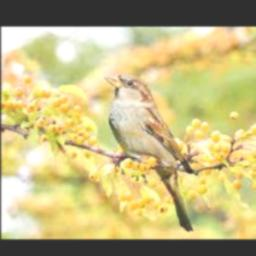Sparrow: (105, 73, 193, 232)
